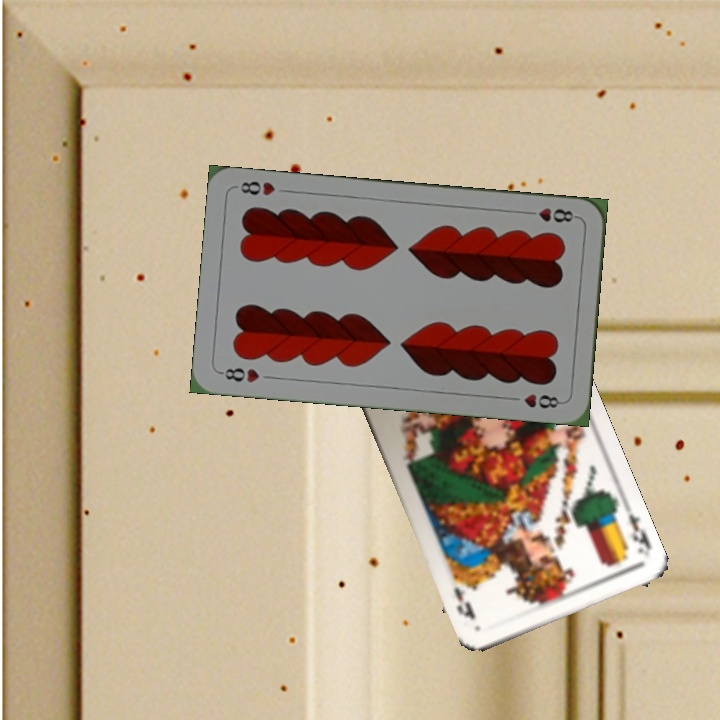EK: (624, 509, 654, 560)
H8: (521, 204, 580, 225), (216, 364, 262, 385)
